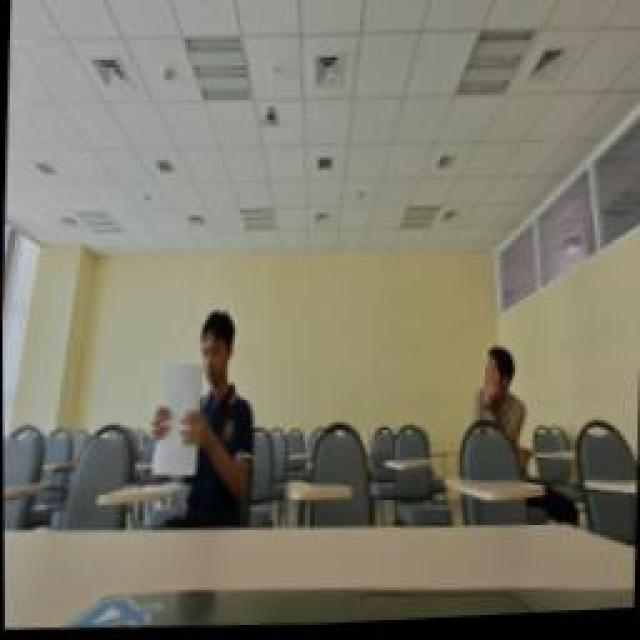study: (150, 300, 258, 535), (467, 340, 535, 495)
